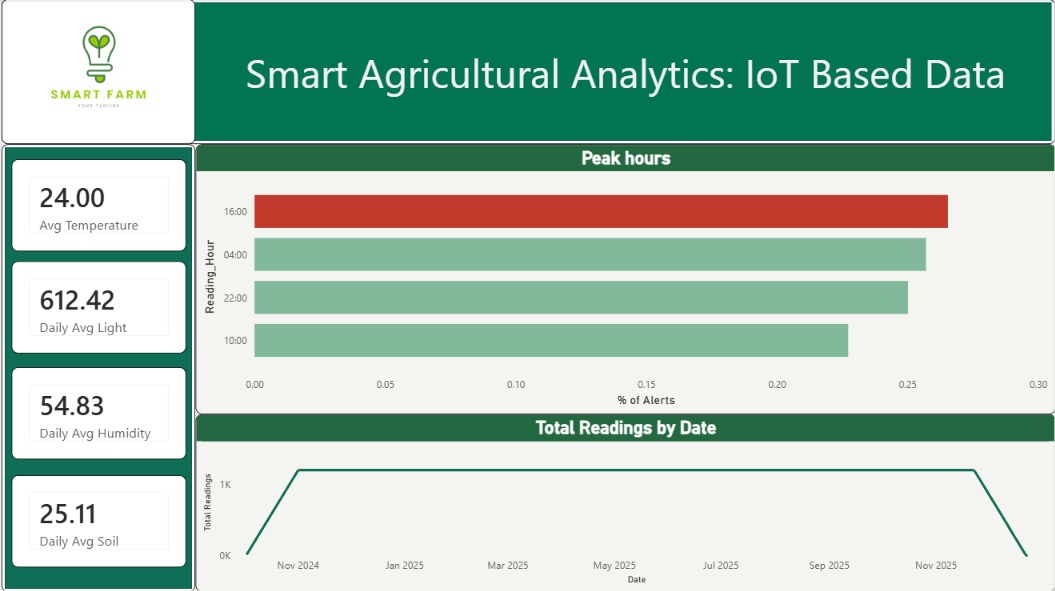

This screenshot's page, from the dashboard's own definition file:
{"tool":"powerbi","page":{"name":"Trends","canvas":[1280,720],"ordinal":2},"visuals":[{"type":"lineChart","fields":{"Y":["_Measures.Total Readings"],"Category":["Dim_Date.Date"]},"box":[235.6,504.1,1044.6,216.2],"z":0},{"type":"shape","box":[0,175.7,235.4,544.3],"z":2000},{"type":"shape","box":[0,0,1279.7,175.9],"z":3000},{"type":"image","box":[0,0,235.4,175.9],"z":4000},{"type":"textbox","box":[274.7,50.6,967.1,75.9],"z":5000},{"type":"cardVisual","fields":{"Data":["_Measures.Avg Temperature"]},"box":[12.1,194.2,212.3,112.2],"z":5001},{"type":"cardVisual","fields":{"Data":["_Measures.Daily Avg Light"]},"box":[12.1,318.5,212.3,112.2],"z":5002},{"type":"cardVisual","fields":{"Data":["_Measures.Daily Avg Humidity"]},"box":[12.1,447.6,212.3,112.2],"z":5003},{"type":"cardVisual","fields":{"Data":["_Measures.Daily Avg Soil"]},"box":[12.1,577.9,212.3,112.2],"z":5004},{"type":"barChart","title":"Peak hours","fields":{"Category":["Fact_MoistureAlerts.Reading_Hour"],"Y":["_Measures.% of Alerts"]},"box":[235.6,176.1,1044.6,328],"z":5005}]}

Visuals, with their boxes in screenshot pixels (x1, y1, x2, y2), scaled from the page's 1280x720 canvas onto the 1055x591 screenshot:
lineChart - _Measures.Total Readings x Dim_Date.Date: [194,414,1054,590]
shape: [0,144,194,590]
shape: [0,0,1054,144]
image: [0,0,194,144]
textbox: [226,42,1024,104]
cardVisual - _Measures.Avg Temperature: [10,159,185,252]
cardVisual - _Measures.Daily Avg Light: [10,261,185,354]
cardVisual - _Measures.Daily Avg Humidity: [10,367,185,460]
cardVisual - _Measures.Daily Avg Soil: [10,474,185,566]
"Peak hours" barChart: [194,145,1054,414]
